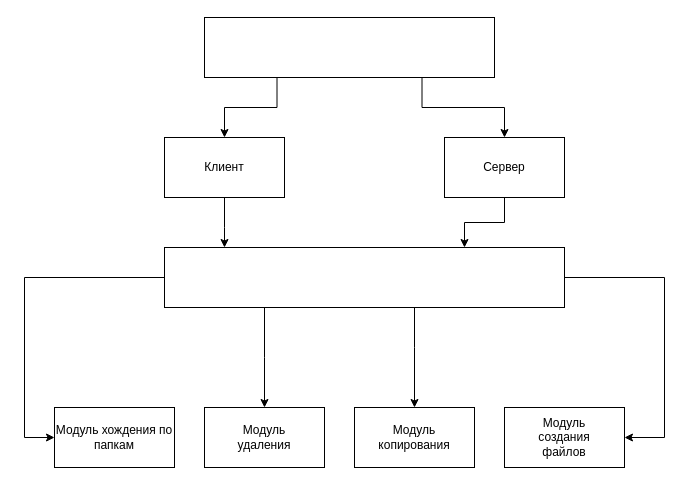
Some shapes in this 690 by 485 pixel diagram are drawn without their labels. The centre of each missing label's shape, as x and y in pixels:
"Файловый менеджер" goes at point (349, 47).
"Функционал" goes at point (364, 277).
